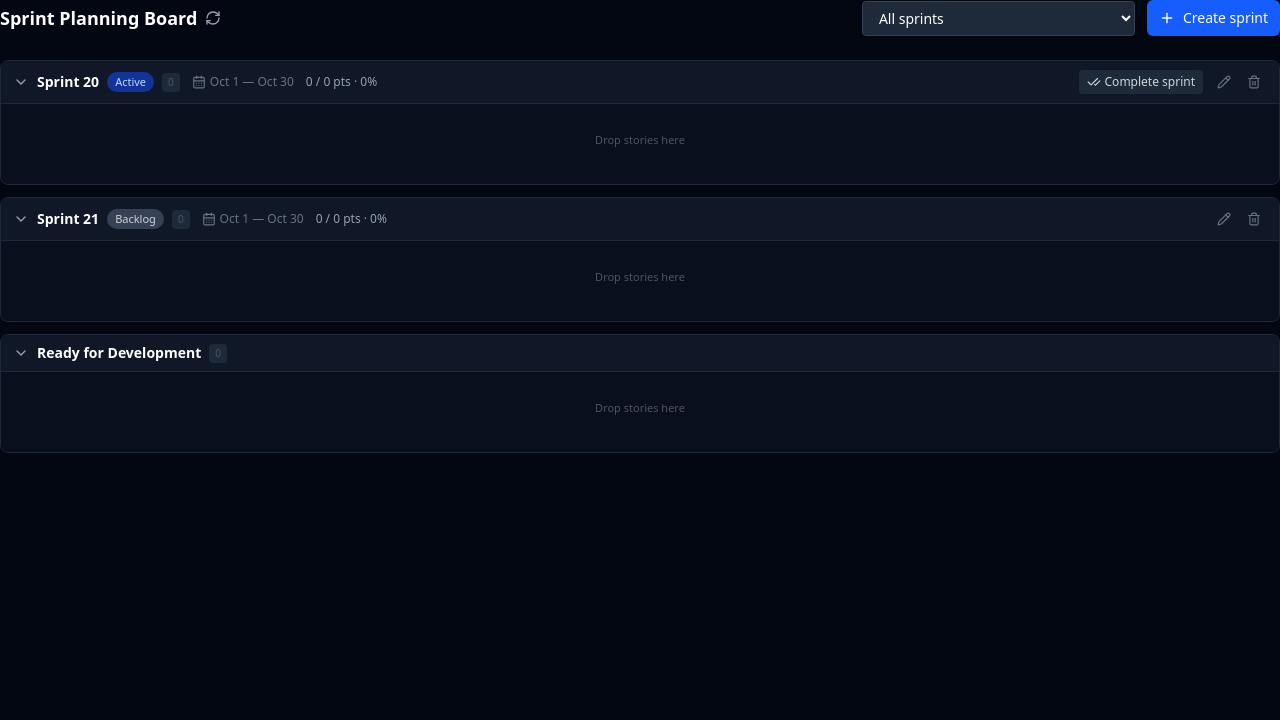
it: SprintPlanningBoard — complete sprint and overdue label (FB-97) › keeps completion disabled when the task query fails (FB-251)
Click the button "Complete sprint". click: (1141, 82)
box: [1078, 70, 1203, 94]
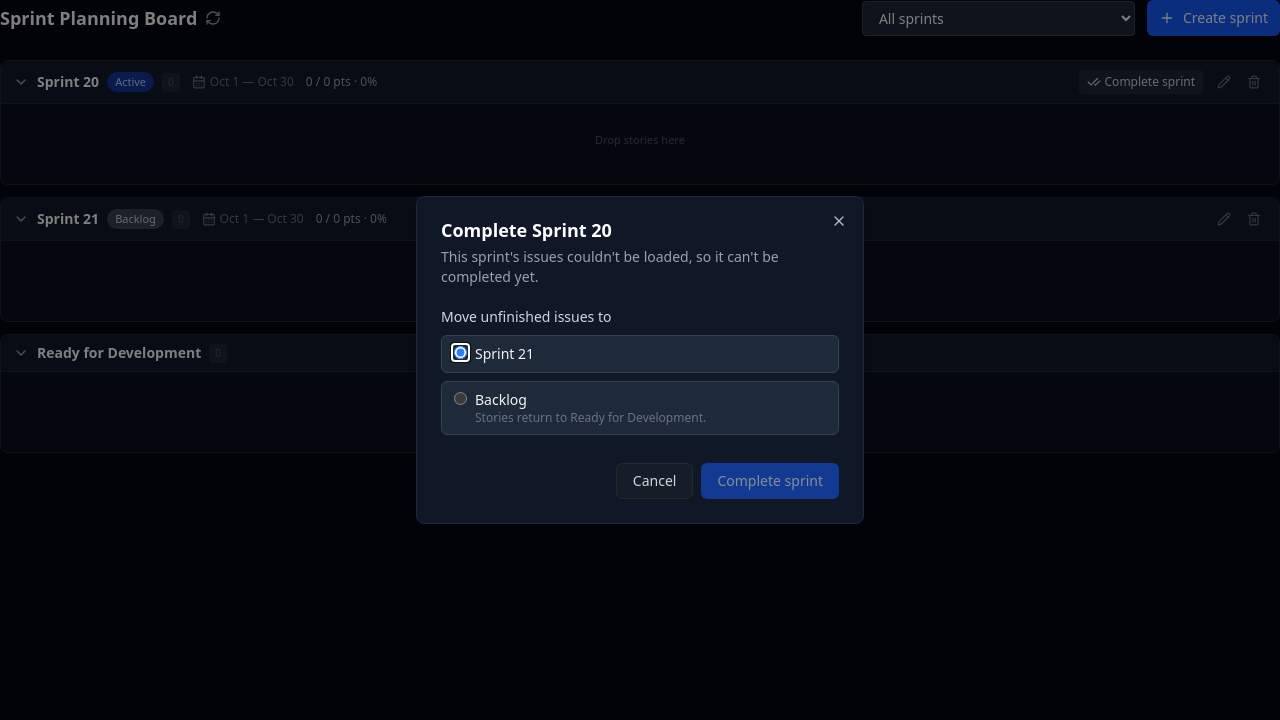
Expected: the dialog does not show "Every issue in this sprint is done", [416, 196, 864, 524]
Result: the dialog shows "issues couldn't be loaded" at [441, 247, 779, 286]
Result: the button "Complete sprint" is disabled at [702, 463, 839, 499]
